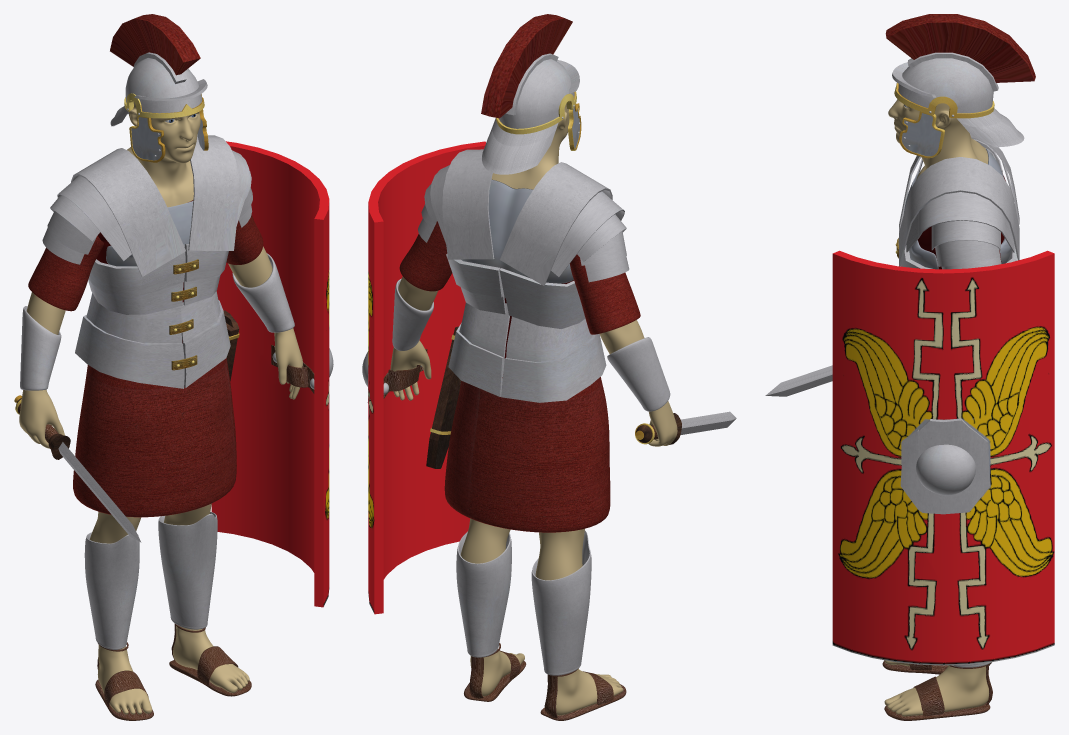
Rendered from roman_soldier.glb.
3 views of the same model, side by side, from view 1: azimuth 30°, elevation 25°; view 2: azimuth 150°, elevation 25°; view 3: azimuth 270°, elevation 25° (orthographic).
Parts seen in each view (by area): view 1: Object_14, Object_11, Object_6, Object_2, Object_13, Object_28, Object_16, Object_29, Object_23, Object_19, Object_3, Object_15 (+4 smaller); view 2: Object_14, Object_11, Object_6, Object_2, Object_13, Object_16, Object_28, Object_29, Object_15, Object_22, Object_23, Object_27 (+4 smaller); view 3: Object_11, Object_14, Object_16, Object_29, Object_2, Object_12, Object_35, Object_9, Object_31, Object_19, Object_23, Object_15 (+1 smaller).
Boxes of the visible parts, box(x1,y1,x2,y2) form: Object_14: box(20, 135, 294, 390); Object_11: box(211, 141, 329, 607); Object_6: box(73, 358, 236, 517); Object_2: box(19, 102, 302, 714); Object_13: box(84, 511, 217, 649); Object_28: box(28, 214, 263, 311); Object_16: box(110, 52, 207, 126); Object_29: box(110, 14, 200, 75); Object_23: box(104, 365, 308, 707); Object_19: box(58, 442, 141, 542); Object_3: box(213, 246, 298, 689); Object_15: box(106, 201, 193, 266); Object_14: box(392, 149, 670, 411); Object_11: box(368, 141, 485, 614); Object_6: box(444, 377, 610, 532); Object_2: box(390, 103, 677, 715); Object_13: box(456, 530, 591, 675); Object_16: box(482, 53, 579, 174); Object_28: box(399, 221, 640, 334); Object_29: box(481, 14, 572, 118); Object_15: box(461, 179, 573, 283); Object_22: box(426, 326, 460, 468); Object_23: box(388, 365, 613, 705); Object_27: box(469, 643, 577, 718); Object_11: box(832, 250, 1054, 665); Object_14: box(898, 134, 1019, 269); Object_16: box(892, 52, 1024, 147); Object_29: box(885, 14, 1035, 82); Object_2: box(884, 99, 988, 716); Object_12: box(900, 418, 989, 514); Object_35: box(903, 111, 975, 495); Object_9: box(901, 113, 941, 156); Object_31: box(882, 660, 990, 720); Object_19: box(765, 365, 832, 396); Object_23: box(909, 663, 944, 716); Object_15: box(904, 149, 1011, 269).
Size of the model in its own units: 36.98 by 77.14 by 30.11.
Materials: 33 (28 with a texture image).
